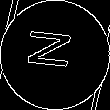N_E: (28, 33, 82, 77)
